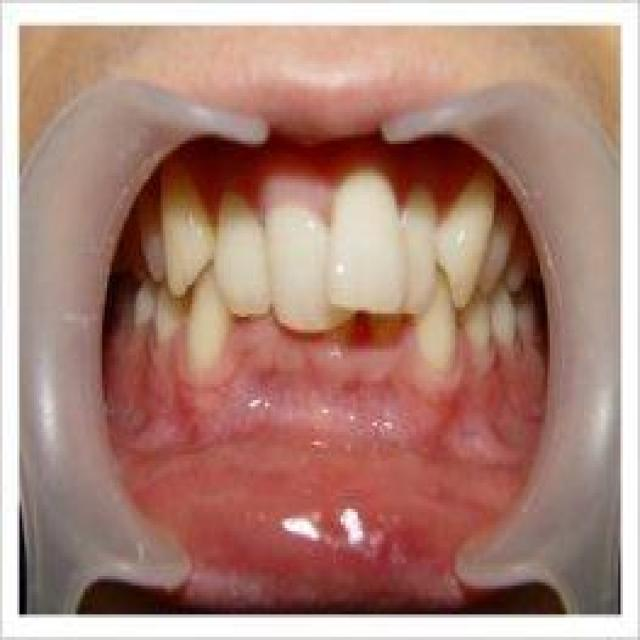Tooth: (265, 179, 355, 333), (329, 176, 411, 314), (436, 176, 494, 307), (214, 195, 273, 314), (163, 173, 217, 298), (190, 266, 234, 374), (414, 266, 457, 368), (404, 195, 438, 314), (477, 221, 511, 298), (462, 285, 492, 352), (141, 192, 163, 282), (158, 282, 190, 342), (489, 282, 516, 342), (134, 278, 158, 326), (511, 301, 535, 336), (506, 259, 530, 291)
